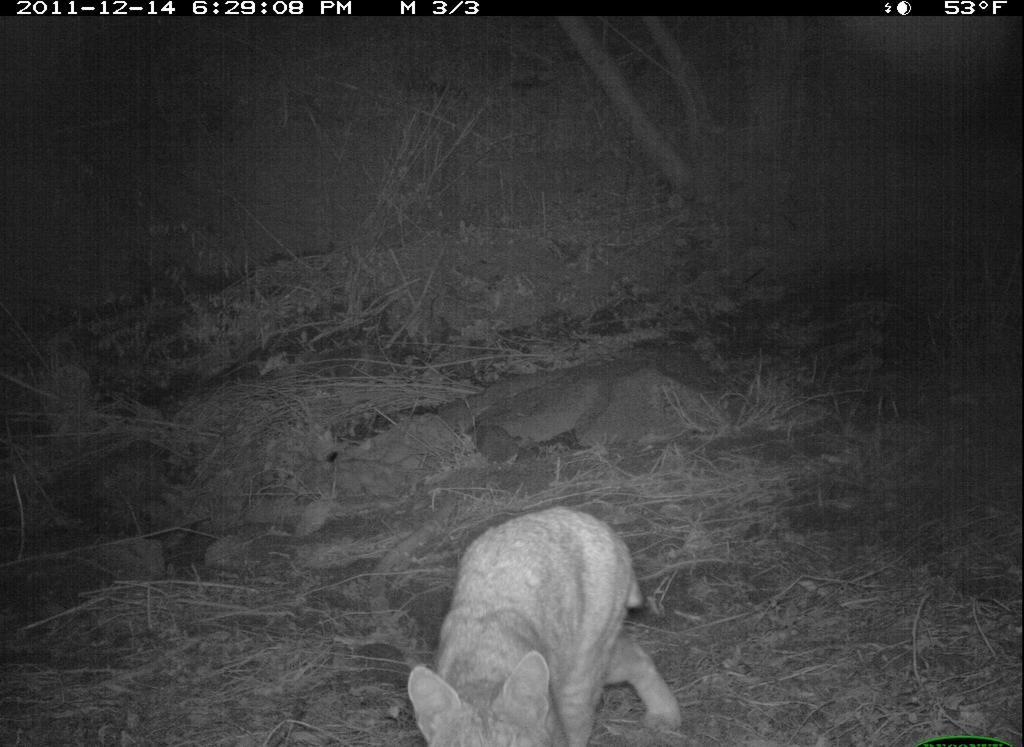bobcat: (391, 481, 702, 747)
